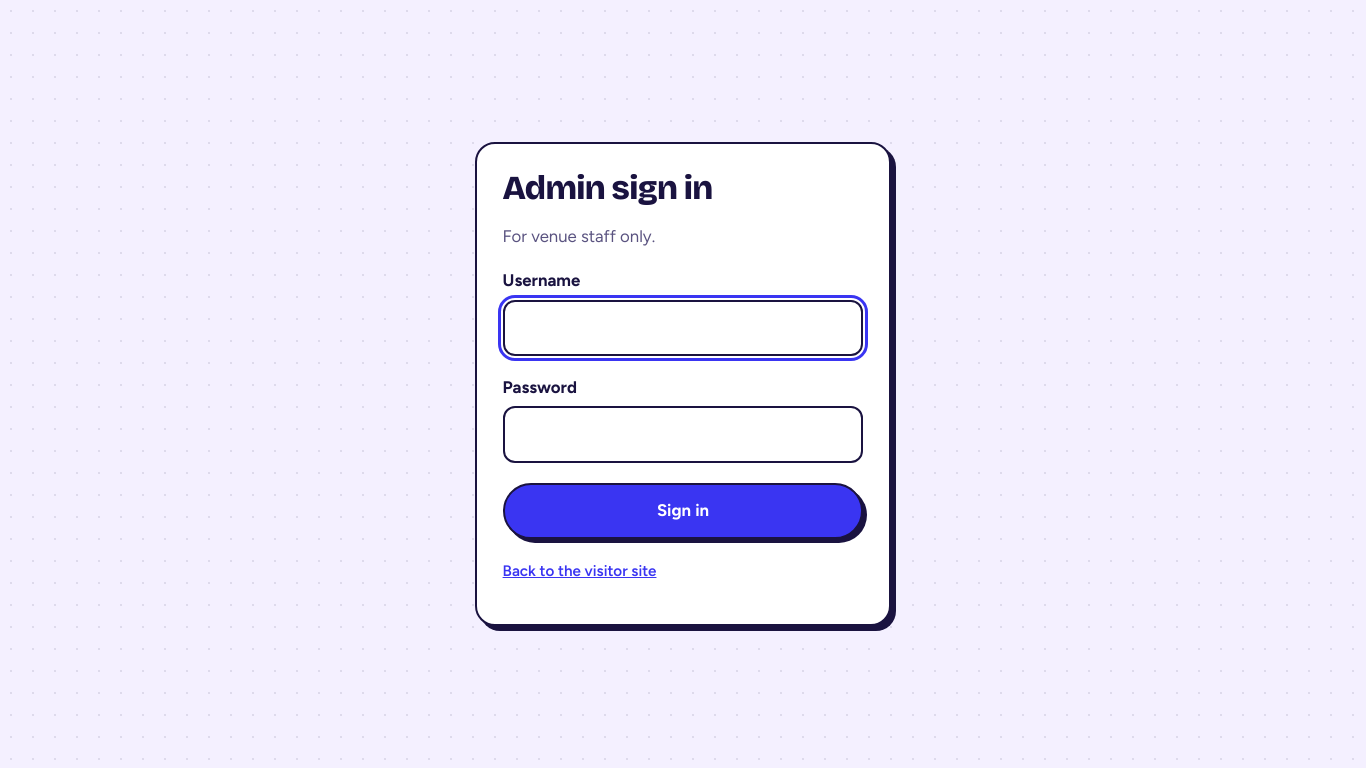
Admin sign in and protection › opens the dashboard after a correct login
This screenshot has width=1366, height=768.
In the field labelled "Username": (683, 328) [503,300,863,356], type "admin"
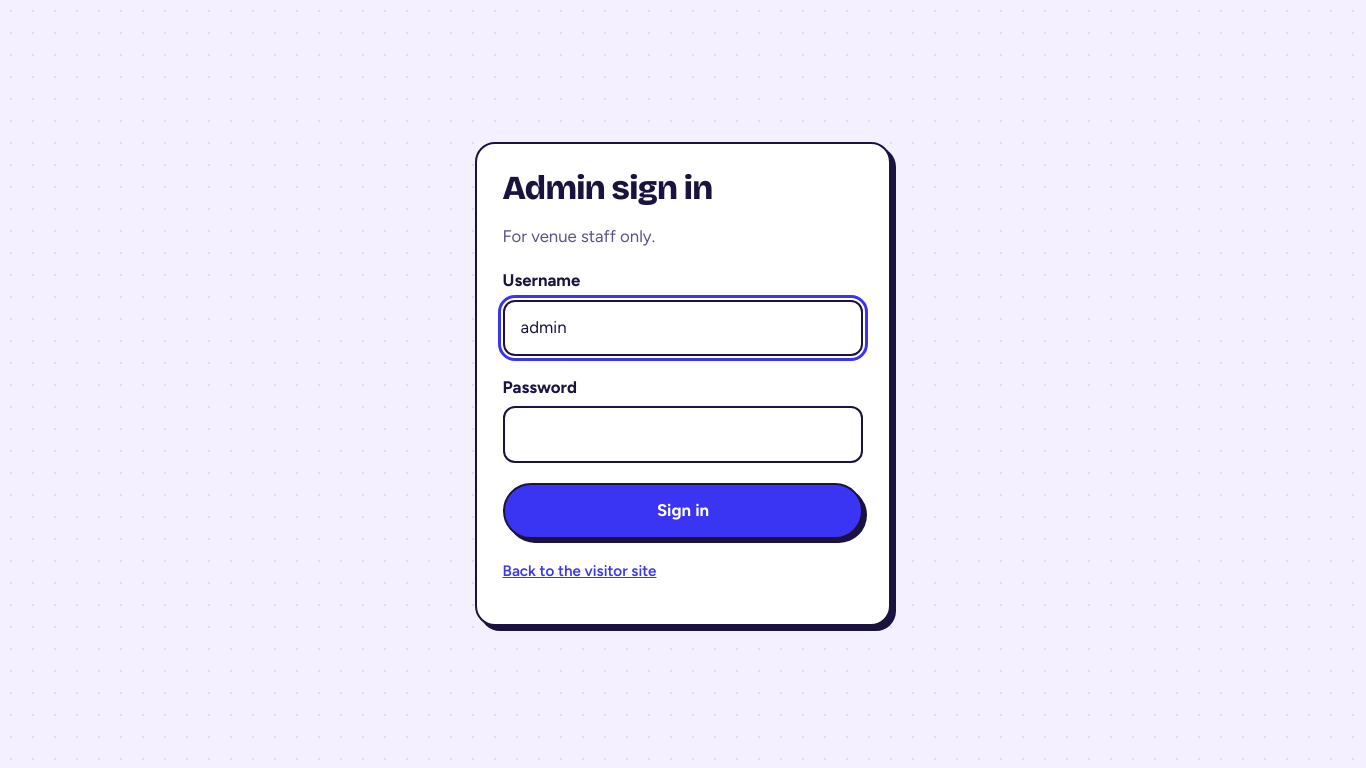
In the password field labelled "Password": (683, 434) [503,406,863,462], type "secret-pass"
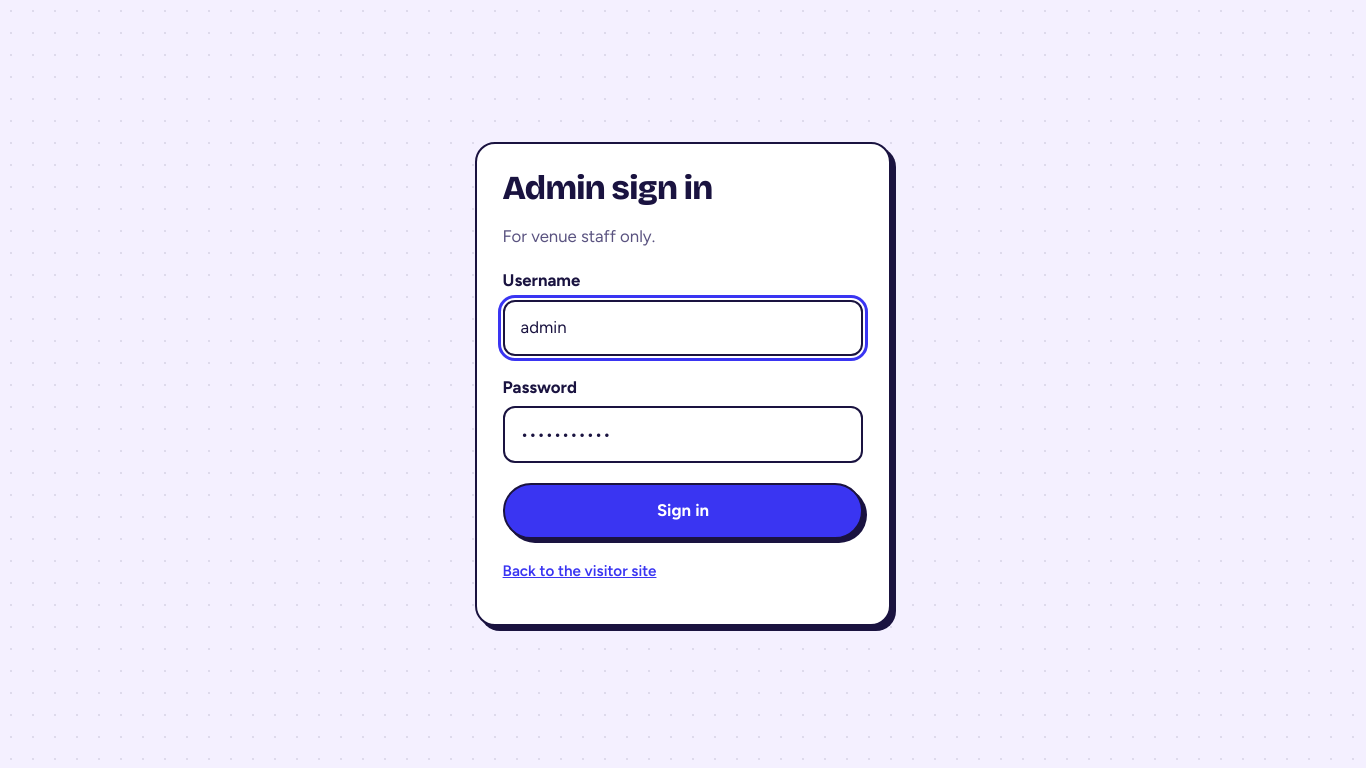
Click the button "Sign in": (683, 511) [503,482,863,539]
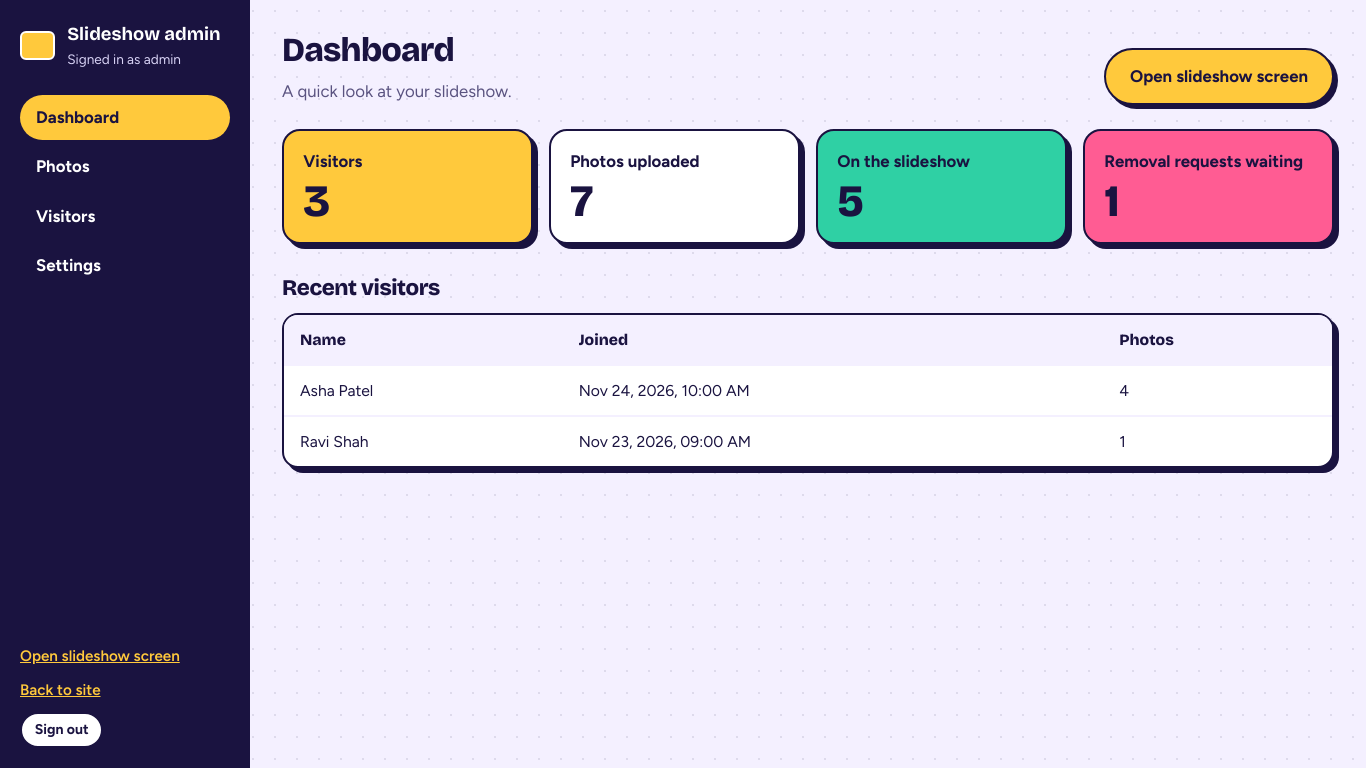
Expected: the text "3" is shown, [303,174,330,228]
Expected: the heading "Dashboard" is shown, [282,30,454,70]
